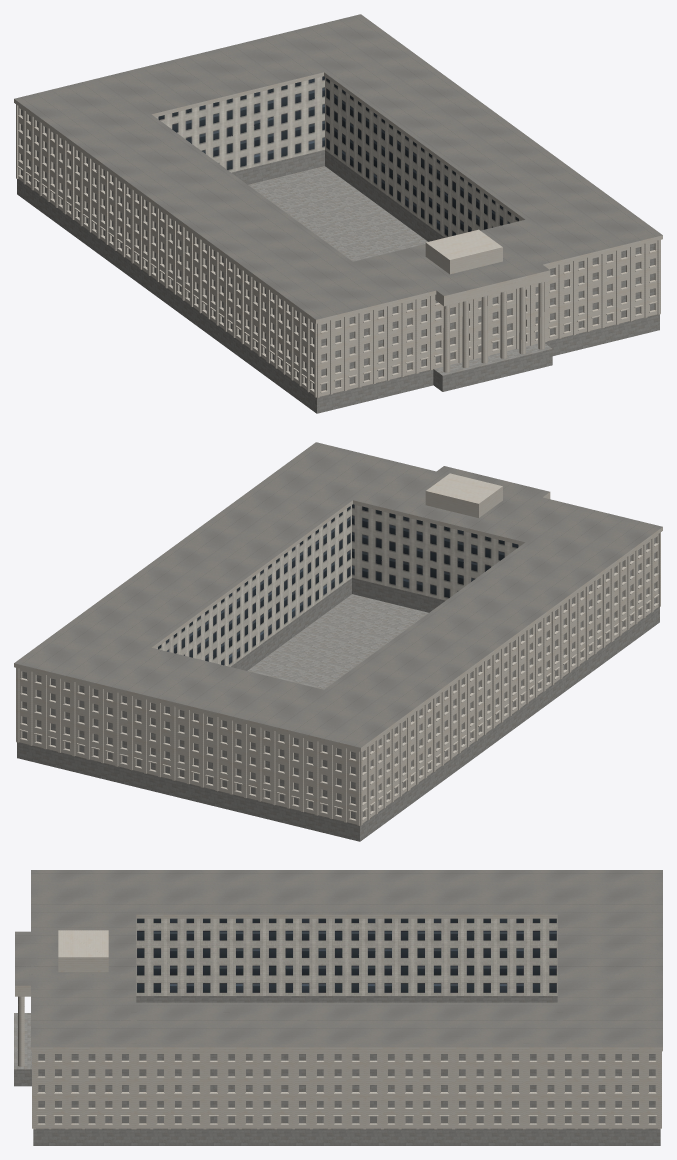
The model's file is dirksen_hart.glb.
3 views of the same model, one above another, from view 1: azimuth 30°, elevation 25°; view 2: azimuth 150°, elevation 25°; view 3: azimuth 270°, elevation 25° (orthographic). The views are drawn at different scales.
Visible parts, largest first — view 1: dirksen_hart; view 2: dirksen_hart; view 3: dirksen_hart.
Part boxes in pixels (box(x1,y1,x2,y2)): dirksen_hart: box(14, 14, 662, 413); dirksen_hart: box(14, 442, 662, 841); dirksen_hart: box(14, 870, 662, 1145).
Bounding box in the file's own units: 91.5 × 27.59 × 142.
Materials: 4 (4 with a texture image).
